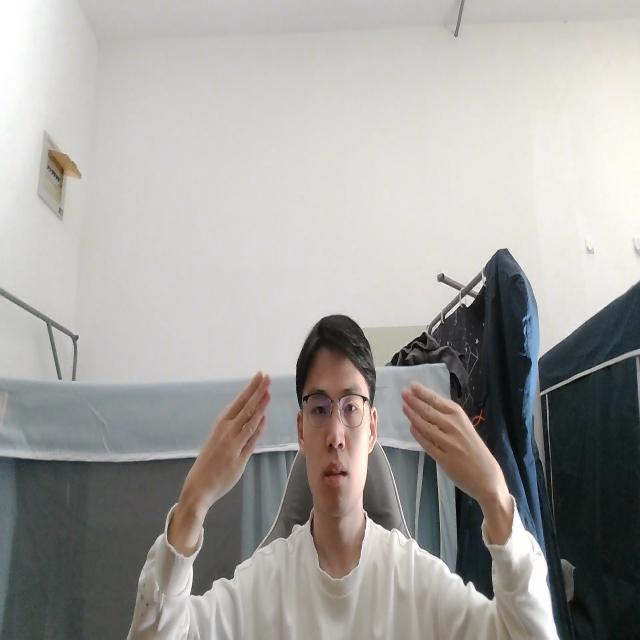four: (396, 379, 504, 508), (184, 367, 275, 512)
